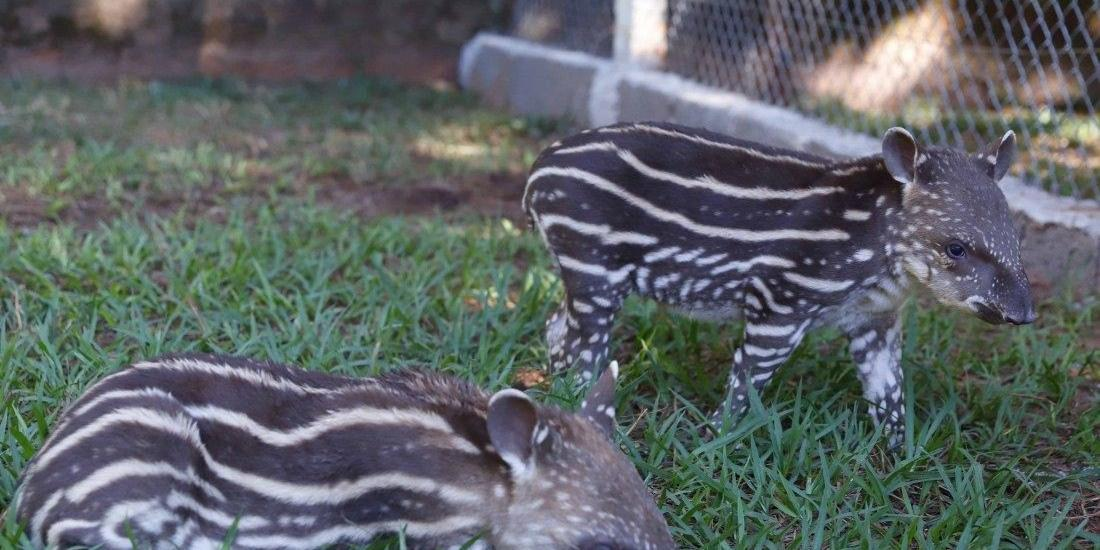Anta: (510, 109, 1050, 454), (10, 351, 696, 541)
